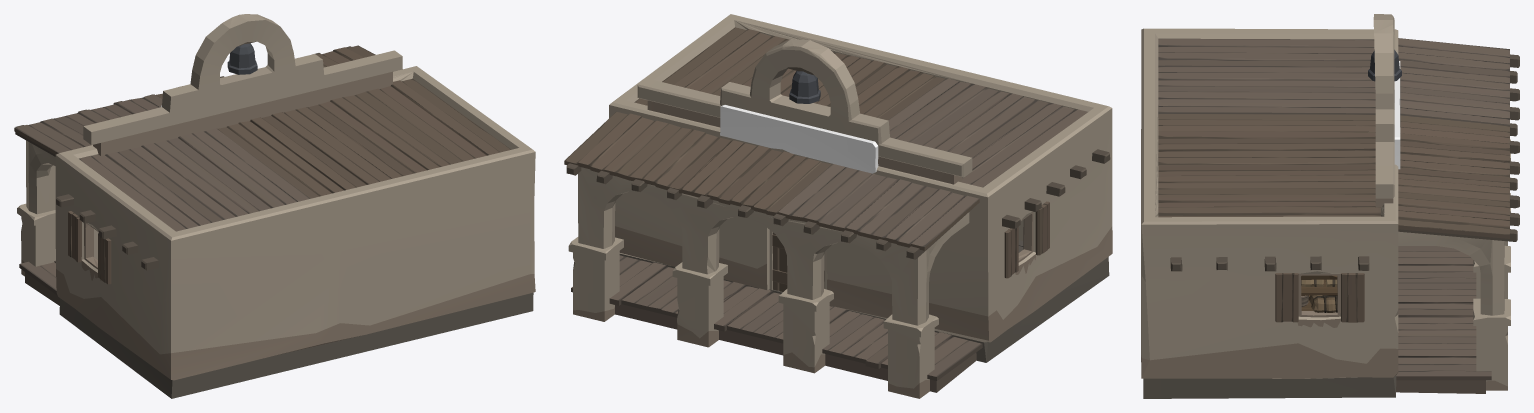
Rendered from Trading_post.glb.
The picture shows the model from 3 angles, left to right: view 1: azimuth 30°, elevation 25°; view 2: azimuth 150°, elevation 25°; view 3: azimuth 270°, elevation 25°; orthographic projection. The views are drawn at different scales.
Parts seen in each view (by area): view 1: Trading_post; view 2: Trading_post, SM_Bld_Sign_16, SM_Bld_Mexican_02_Door_01; view 3: Trading_post, SM_Gen_Prop_Shelf_02, SM_Bld_Sign_16, SM_Prop_Fur_Roll_03.
Part boxes in pixels (left/top/right/bottom): Trading_post: left=14, top=14, right=535, bottom=398; Trading_post: left=564, top=14, right=1112, bottom=398; SM_Bld_Sign_16: left=720, top=105, right=878, bottom=173; SM_Bld_Mexican_02_Door_01: left=772, top=232, right=824, bottom=291; Trading_post: left=1141, top=14, right=1519, bottom=398; SM_Gen_Prop_Shelf_02: left=1301, top=275, right=1337, bottom=310; SM_Bld_Sign_16: left=1394, top=61, right=1400, bottom=169; SM_Prop_Fur_Roll_03: left=1308, top=295, right=1337, bottom=312.
Bounding box in the file's own units: 9.6 × 6.07 × 7.39.
5 materials, 3 textured.
